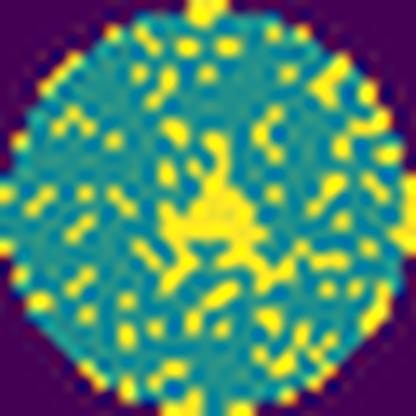Center: (131, 126, 302, 296)
